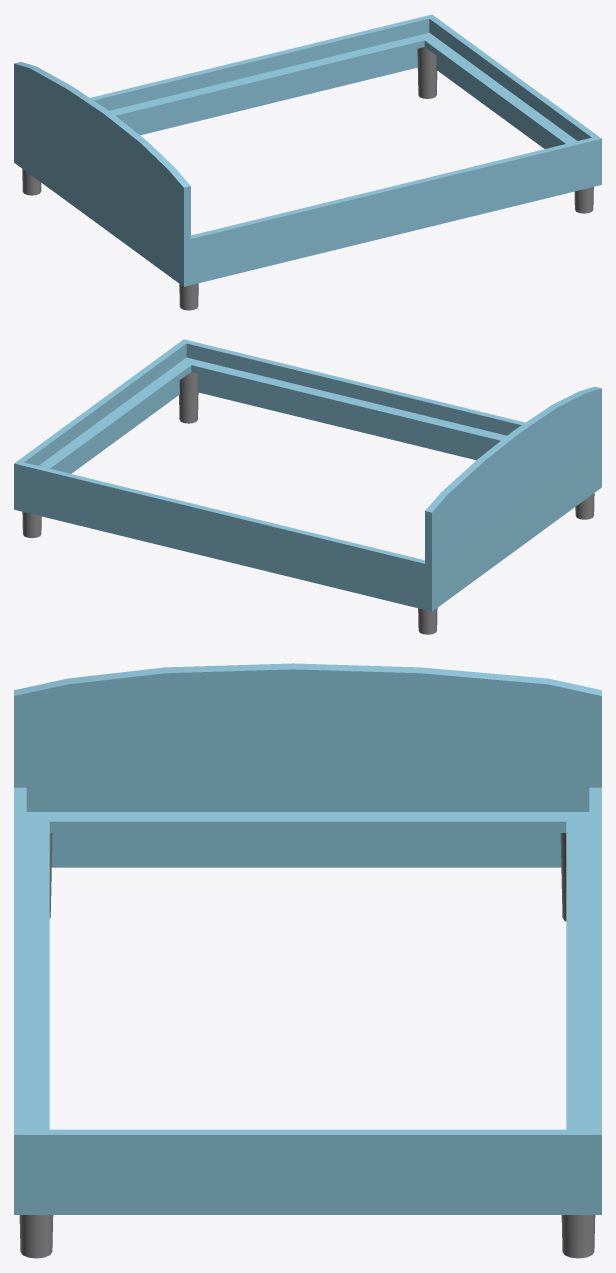
The model's file is FURNITURE_largeBed_04.FBX.
The picture shows the model from 3 angles, top to bottom: view 1: azimuth 30°, elevation 25°; view 2: azimuth 150°, elevation 25°; view 3: azimuth 270°, elevation 25°; orthographic projection. The views are drawn at different scales.
Parts seen in each view (by area): view 1: FURNITURE_largeBed_04; view 2: FURNITURE_largeBed_04; view 3: FURNITURE_largeBed_04.
Boxes of the visible parts, x1,y1,x2,y2 form: FURNITURE_largeBed_04: (14,14,601,310); FURNITURE_largeBed_04: (14,339,601,634); FURNITURE_largeBed_04: (14,663,601,1258).
Size of the model in its own units: 256 by 82.56 by 180.
